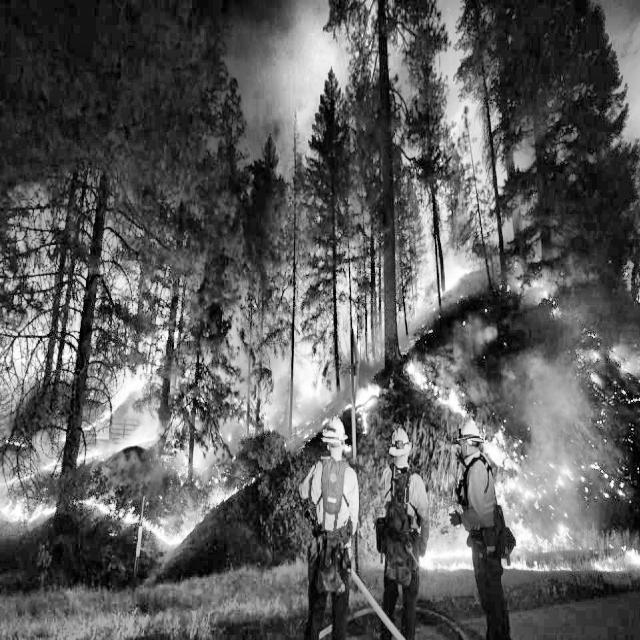fire: (6, 41, 640, 620)
